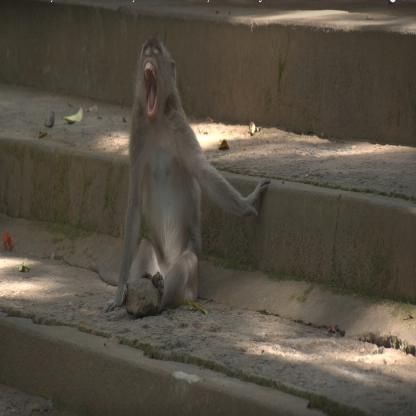monkey: (105, 35, 270, 310)
